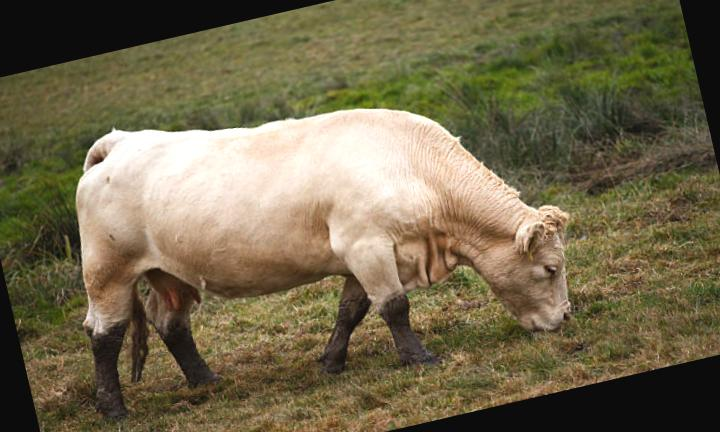Charolais: (77, 109, 570, 416)
